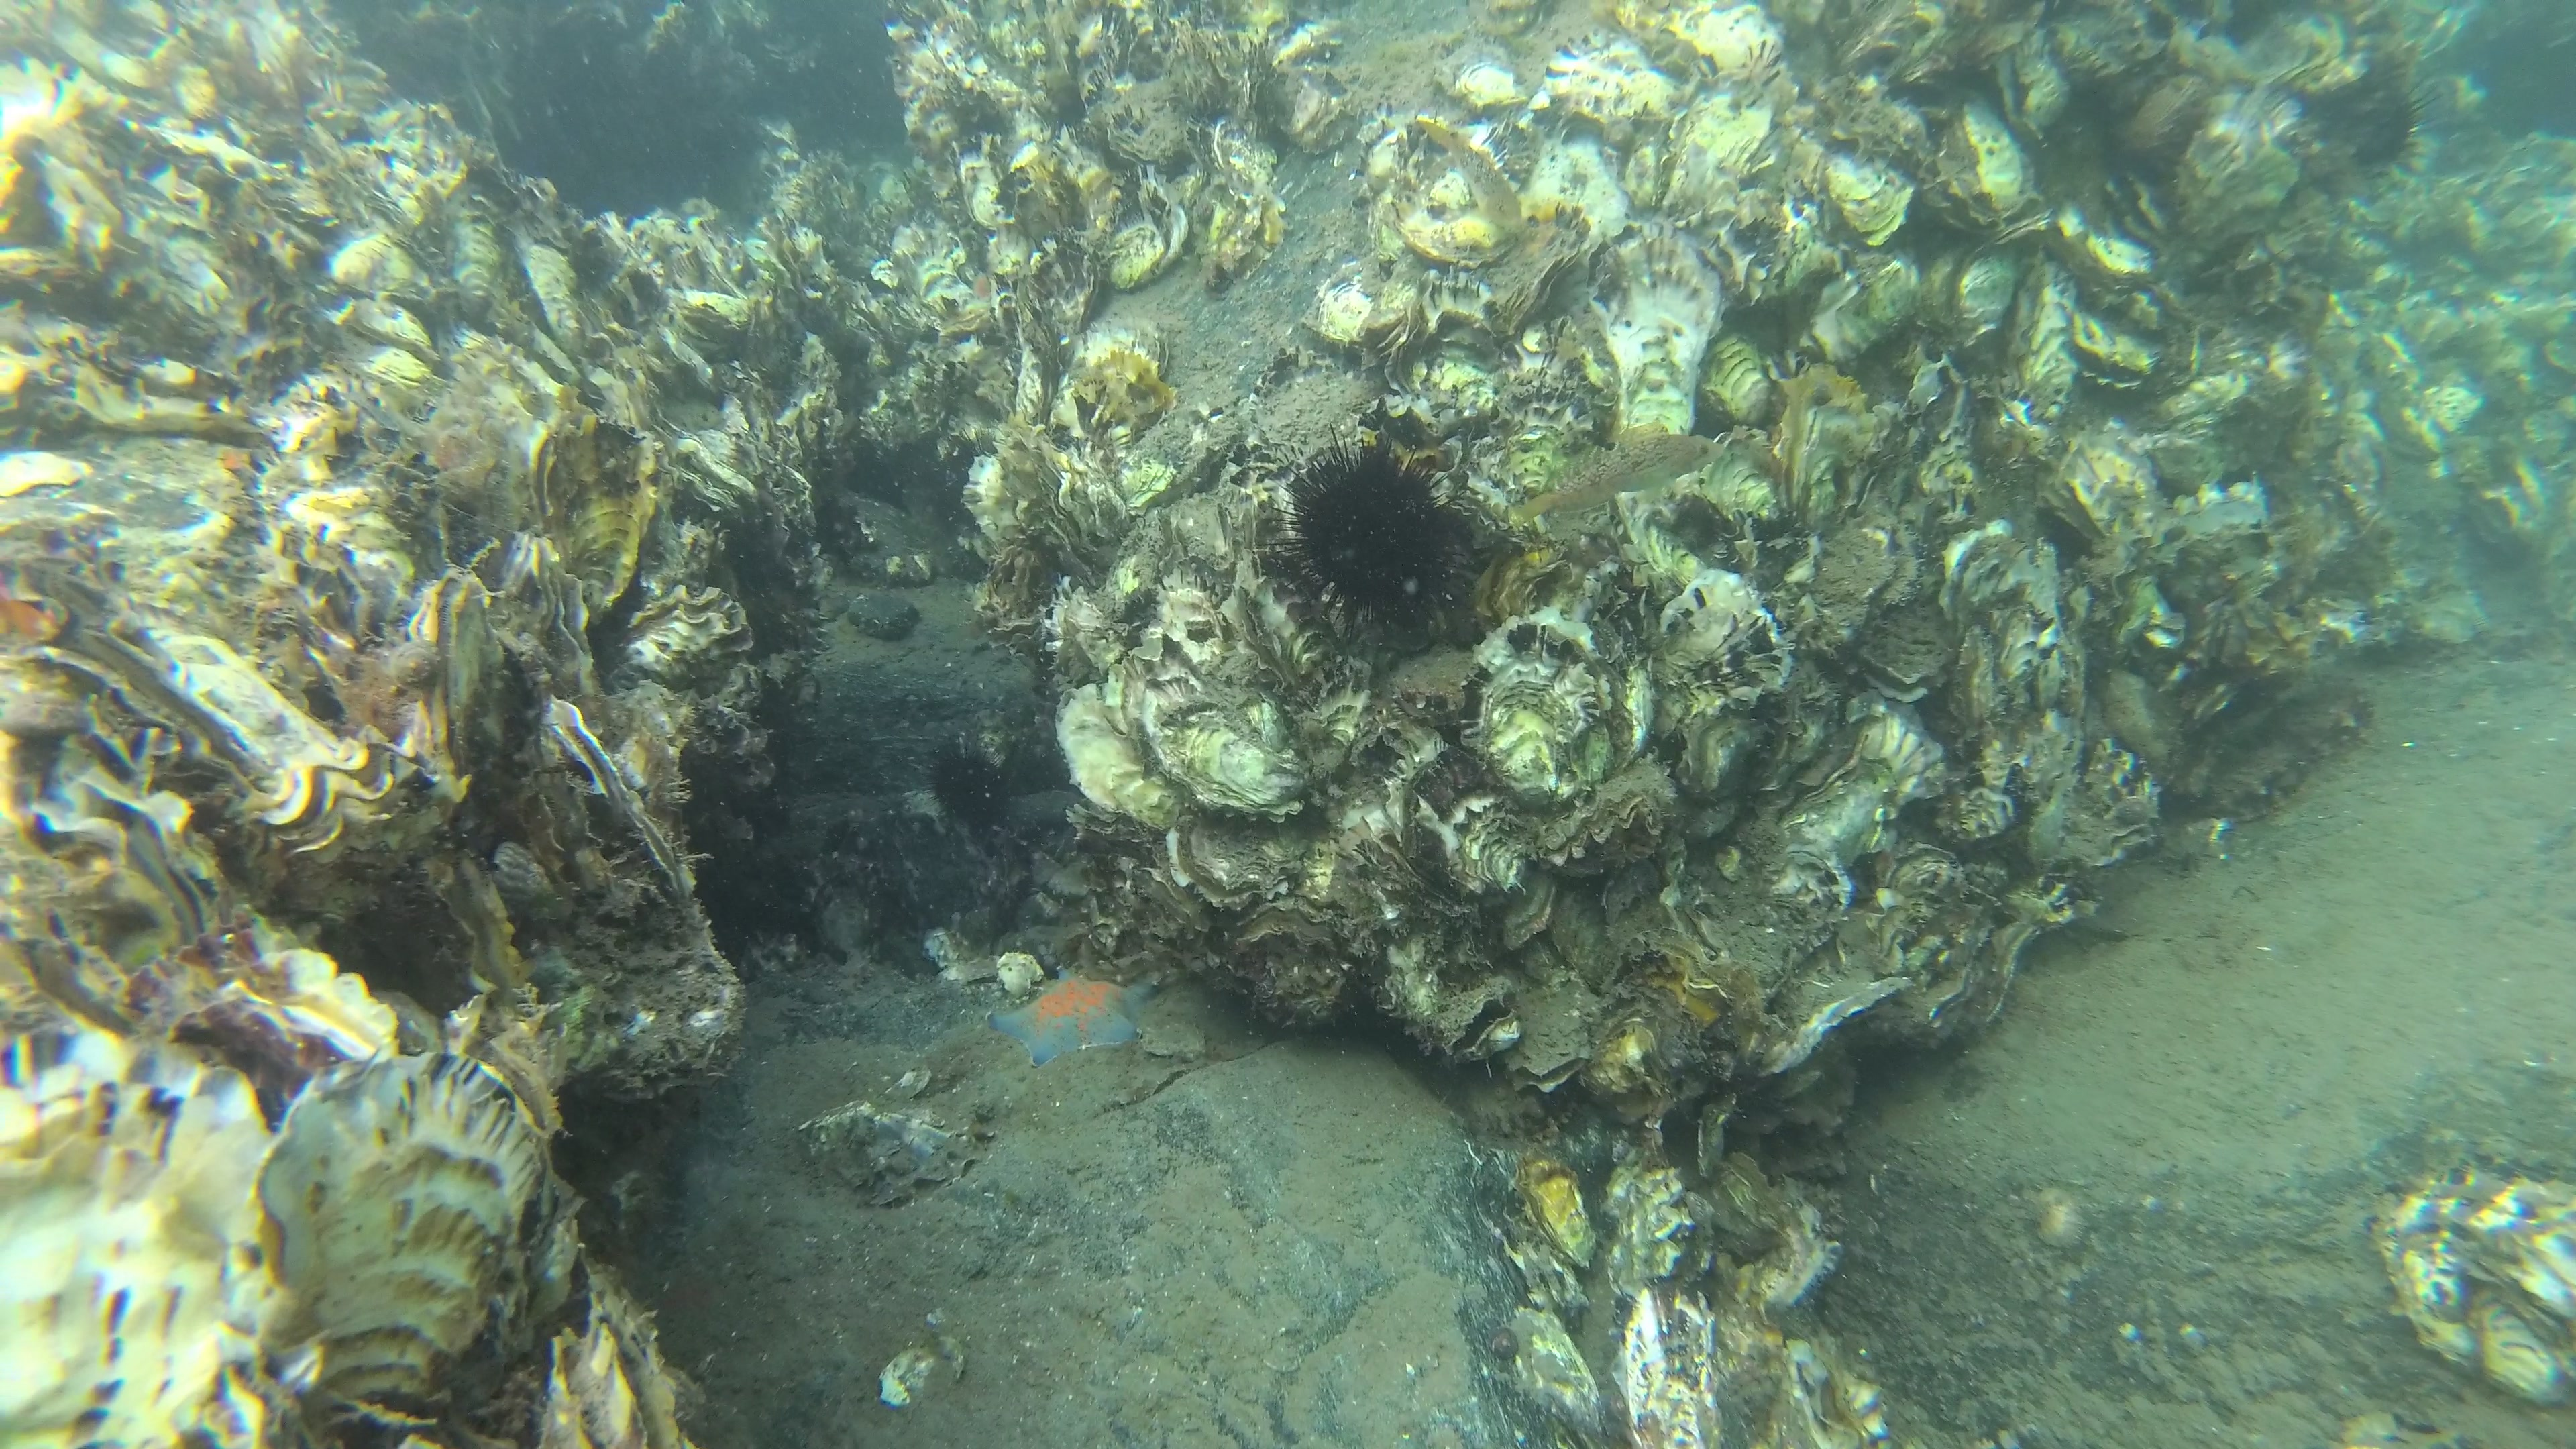echinus: (1270, 433, 1488, 642)
starfish: (975, 954, 1159, 1065)
